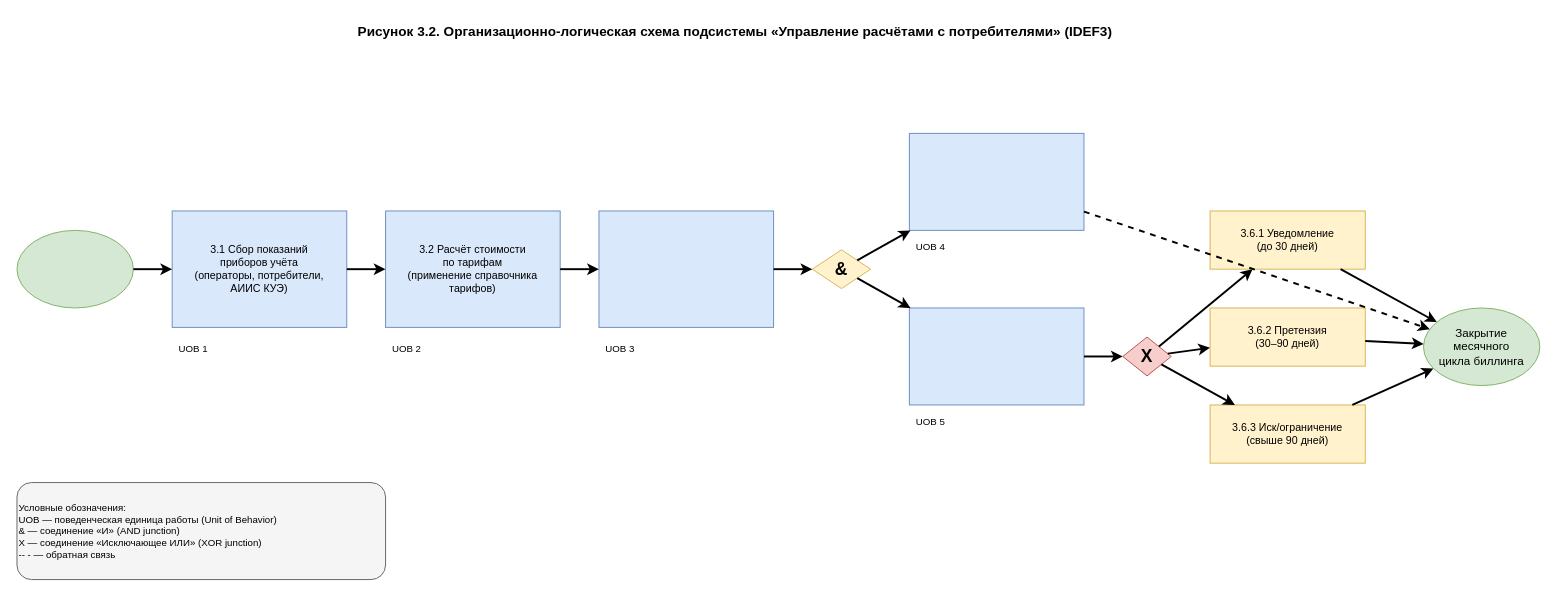
Image size: 1557x597. Some labels were removed from this diagram. Here are the shapes that lost their labels. From the top down, the centre of each, then its label:
At (x=996, y=181): "3.4 Приём платежей и автоматическое погашение".
At (x=74, y=268): "Начало ежемесячного цикла биллинга".
At (x=686, y=268): "3.3 Формирование счетов-квитанций и доставка".
At (x=996, y=356): "3.5 Анализ дебиторской задолженности (ежедневный, по таймеру)".
